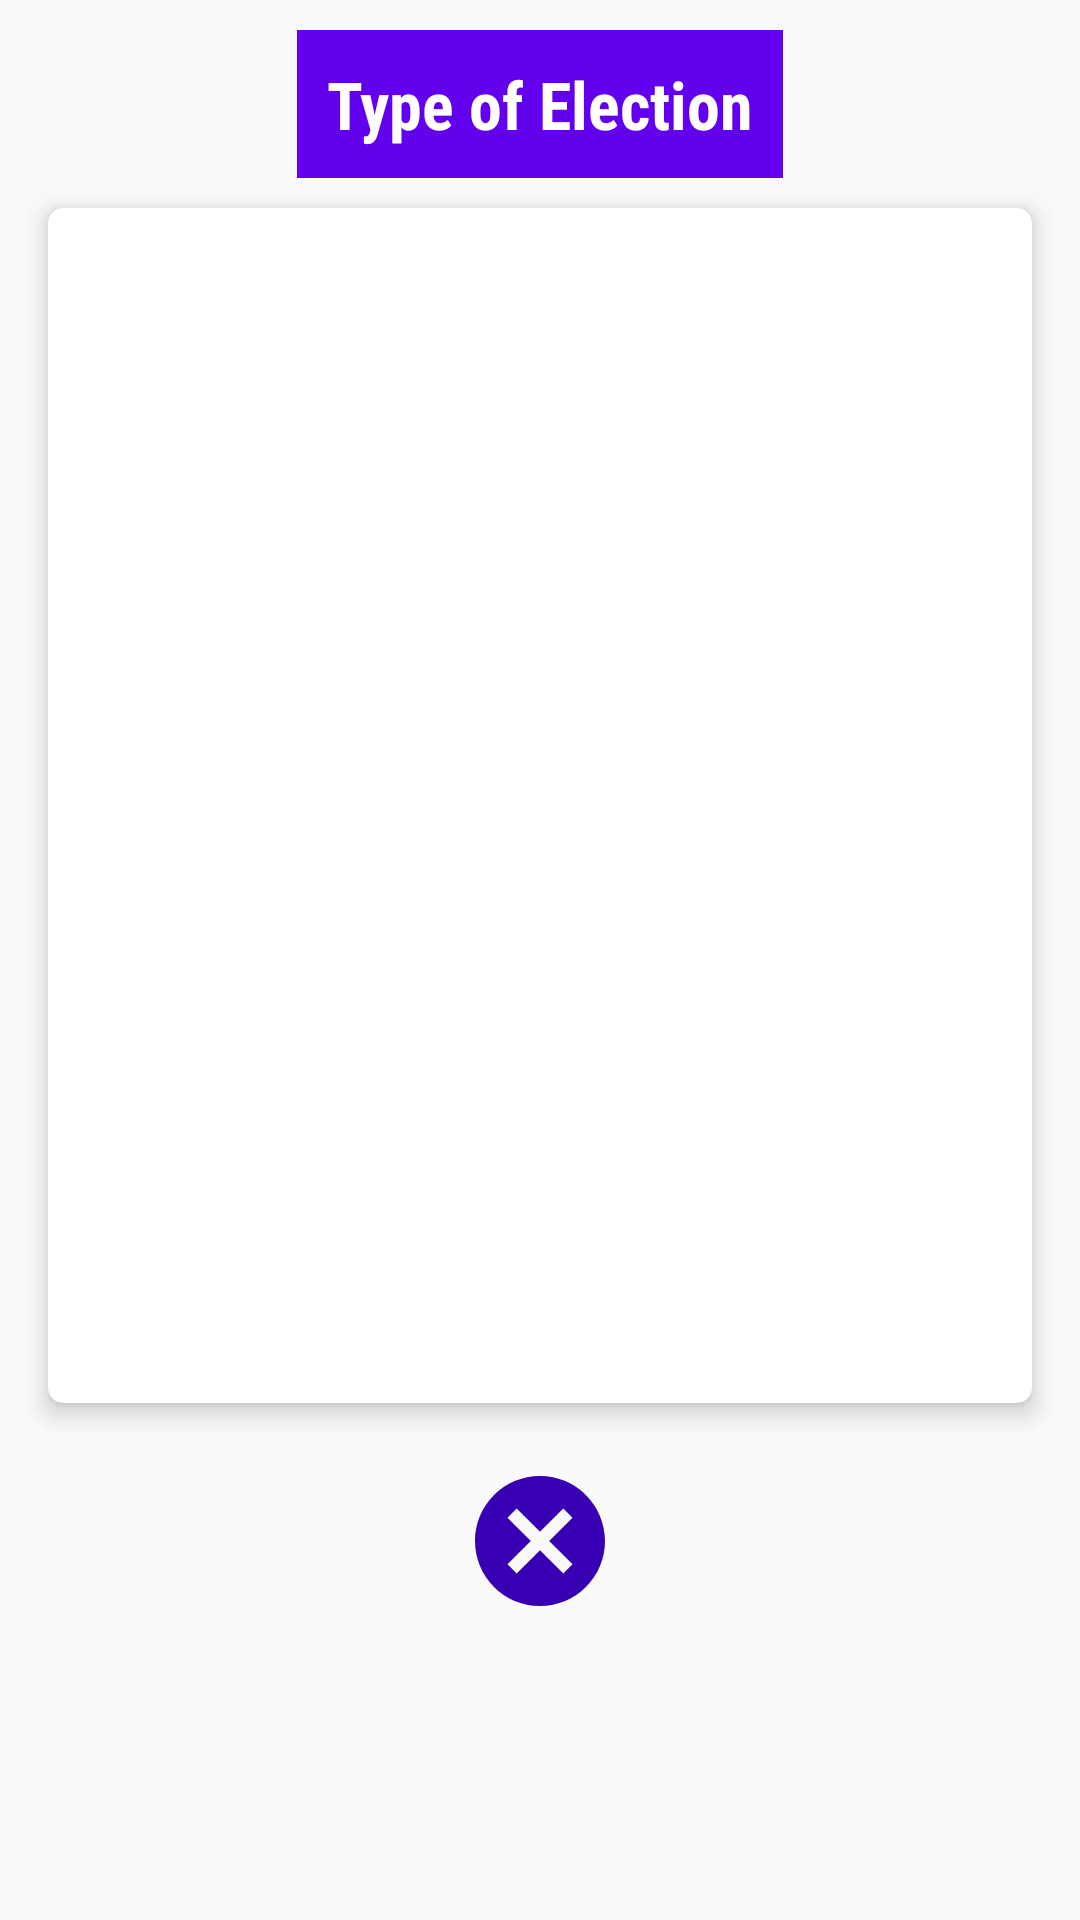

Locate icon controls on the screen. Image size 1080x1920, boxes as (x1=x1, y1=y1, x2=x2, y2=y2).
cancel: (x1=475, y1=1476, x2=605, y2=1606)
